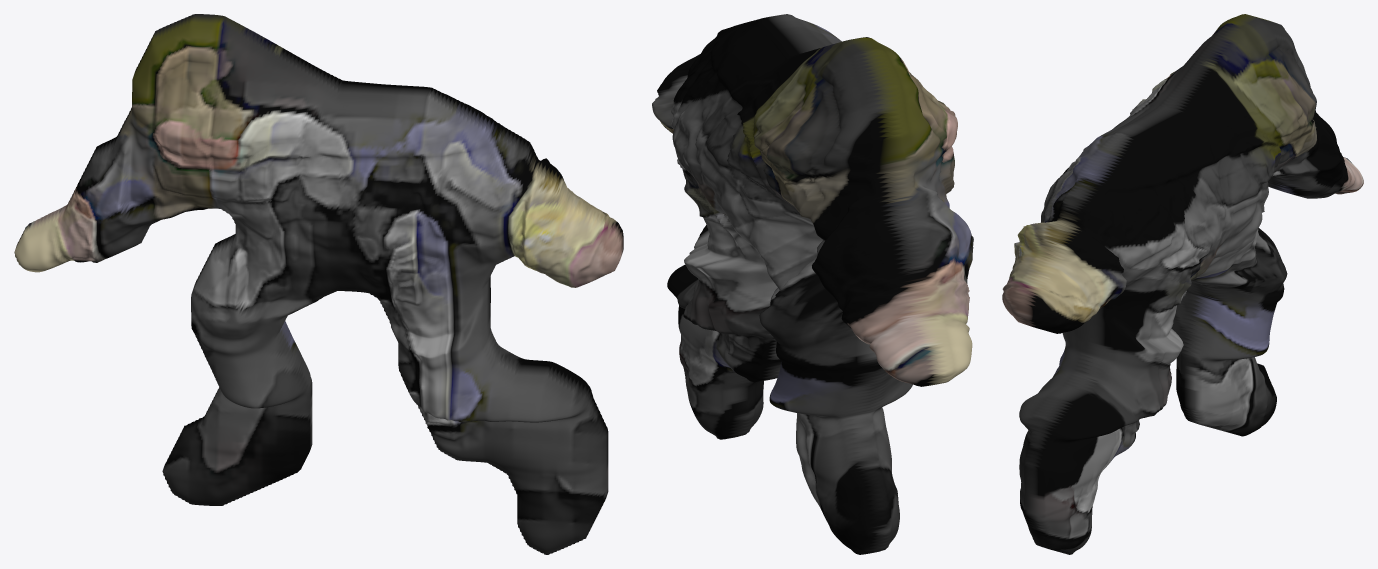
File: allied_spy.glb
3 renders of one model, left to right at view 1: azimuth 30°, elevation 25°; view 2: azimuth 150°, elevation 25°; view 3: azimuth 270°, elevation 25°, orthographic. The views are drawn at different scales.
Visible parts, largest first — view 1: allied_spy; view 2: allied_spy; view 3: allied_spy.
Part boxes in pixels (box(x1,y1,x2,y2)): allied_spy: box(14, 14, 623, 554); allied_spy: box(652, 14, 973, 554); allied_spy: box(1002, 14, 1363, 554).
Bounding box in the file's own units: 1.67 × 1.85 × 1.39.
